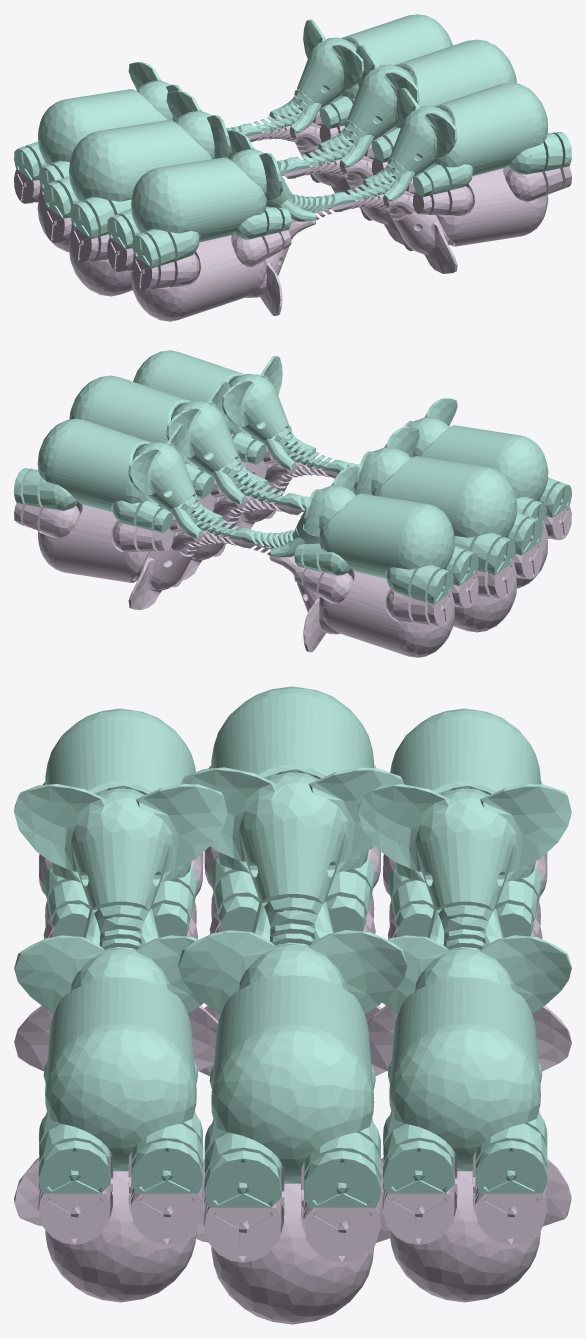
Rendered from 20180531_elephant_remadelow2.gltf.
The picture shows the model from 3 angles, top to bottom: view 1: azimuth 30°, elevation 25°; view 2: azimuth 150°, elevation 25°; view 3: azimuth 270°, elevation 25°; orthographic projection. The views are drawn at different scales.
Visible parts, largest first — view 1: LFS Elephant low2.004, LFS Elephant low2.005, LFS Elephant low2, LFS Elephant low2.007, LFS Elephant low2.001, LFS Elephant low2.006, LFS Elephant low2.002, LFS Elephant low2.003, LFS Elephant low2.010, LFS Elephant low2.011, LFS Elephant low2.008, LFS Elephant low2.009; view 2: LFS Elephant low2.003, LFS Elephant low2.002, LFS Elephant low2, LFS Elephant low2.008, LFS Elephant low2.001, LFS Elephant low2.009, LFS Elephant low2.005, LFS Elephant low2.004, LFS Elephant low2.010, LFS Elephant low2.011, LFS Elephant low2.007, LFS Elephant low2.006; view 3: LFS Elephant low2.001, LFS Elephant low2.002, LFS Elephant low2.005, LFS Elephant low2, LFS Elephant low2.003, LFS Elephant low2.004, LFS Elephant low2.011, LFS Elephant low2.007, LFS Elephant low2.008, LFS Elephant low2.009, LFS Elephant low2.006, LFS Elephant low2.010.
Boxes of the visible parts, <box> form: LFS Elephant low2.004: <box>107,130,343,268</box>; LFS Elephant low2.005: <box>338,82,571,204</box>; LFS Elephant low2: <box>43,91,296,238</box>; LFS Elephant low2.007: <box>341,166,571,273</box>; LFS Elephant low2.001: <box>291,39,516,170</box>; LFS Elephant low2.006: <box>107,204,343,321</box>; LFS Elephant low2.002: <box>244,14,452,135</box>; LFS Elephant low2.003: <box>14,62,250,189</box>; LFS Elephant low2.010: <box>43,170,297,296</box>; LFS Elephant low2.011: <box>295,137,403,244</box>; LFS Elephant low2.008: <box>249,105,351,194</box>; LFS Elephant low2.009: <box>14,136,250,252</box>; LFS Elephant low2.003: <box>242,466,478,604</box>; LFS Elephant low2.002: <box>14,418,248,540</box>; LFS Elephant low2: <box>289,427,542,574</box>; LFS Elephant low2.008: <box>14,502,245,609</box>; LFS Elephant low2.001: <box>69,375,295,506</box>; LFS Elephant low2.009: <box>242,541,478,657</box>; LFS Elephant low2.005: <box>133,350,342,471</box>; LFS Elephant low2.004: <box>336,398,571,524</box>; LFS Elephant low2.010: <box>289,507,542,632</box>; LFS Elephant low2.011: <box>182,476,291,580</box>; LFS Elephant low2.007: <box>234,446,336,530</box>; LFS Elephant low2.006: <box>336,472,571,588</box>; LFS Elephant low2.001: <box>178,930,407,1207</box>; LFS Elephant low2.002: <box>382,935,571,1193</box>; LFS Elephant low2.005: <box>14,935,203,1193</box>; LFS Elephant low2: <box>181,686,403,946</box>; LFS Elephant low2.003: <box>358,708,571,950</box>; LFS Elephant low2.004: <box>14,708,227,950</box>; LFS Elephant low2.011: <box>196,1118,389,1324</box>; LFS Elephant low2.007: <box>14,1110,205,1302</box>; LFS Elephant low2.008: <box>381,1110,571,1302</box>; LFS Elephant low2.009: <box>367,853,571,1071</box>; LFS Elephant low2.006: <box>14,852,218,1071</box>; LFS Elephant low2.010: <box>199,846,386,1076</box>.
Bounding box in the file's own units: 179 × 63.47 × 103.
